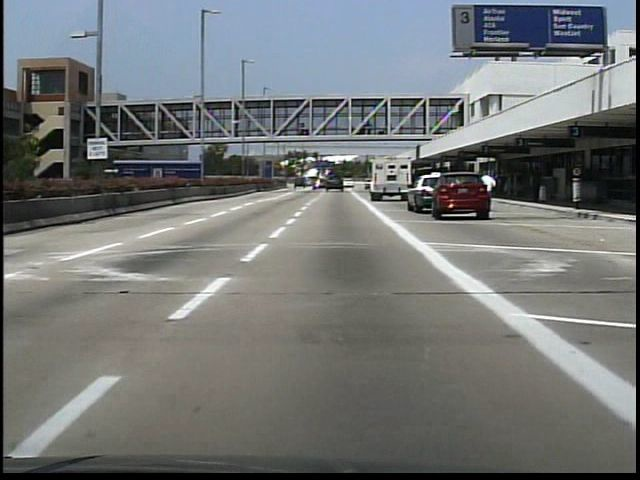person: (478, 170, 498, 218)
